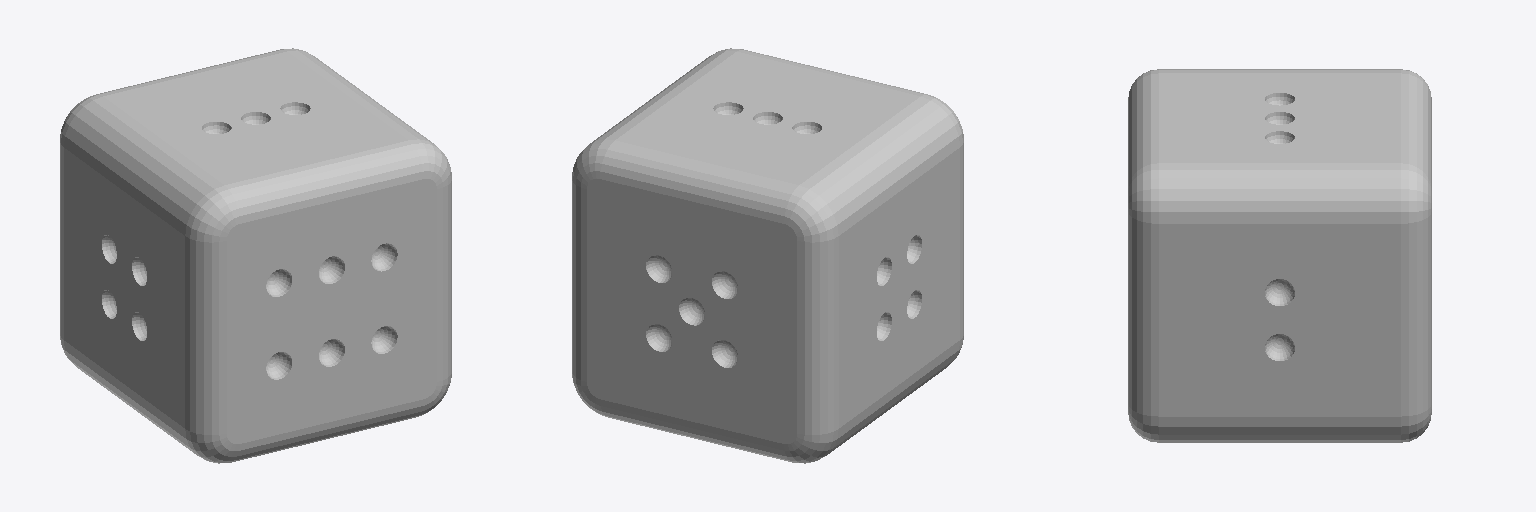
Rendered from basic_dice_cube.obj.
3 renders of one model, left to right at view 1: azimuth 30°, elevation 25°; view 2: azimuth 150°, elevation 25°; view 3: azimuth 270°, elevation 25°, orthographic.
Parts seen in each view (by area): view 1: Body1; view 2: Body1; view 3: Body1.
Part boxes in pixels (bbox=[...]): Body1: bbox=[60, 48, 451, 463]; Body1: bbox=[572, 48, 963, 463]; Body1: bbox=[1128, 69, 1431, 442].
Size of the model in its own units: 10 by 10 by 10.